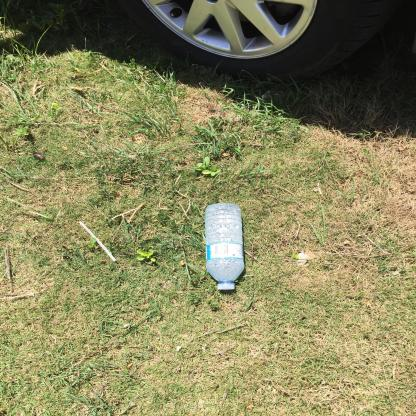Plastic: (205, 203, 245, 290), (78, 221, 116, 262)
Waste: (217, 284, 235, 290), (74, 86, 83, 90)
